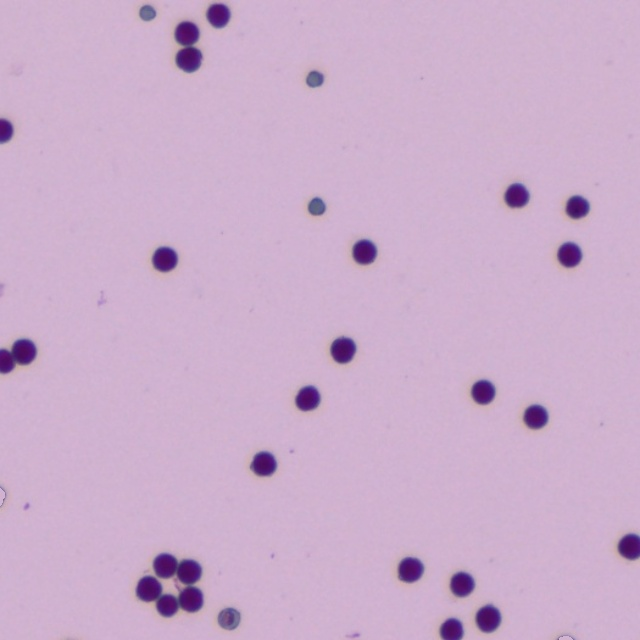non_viable: (217, 607, 239, 629), (307, 198, 324, 215), (306, 70, 323, 87), (139, 5, 155, 19)
viable: (475, 605, 500, 631), (330, 337, 355, 362), (152, 247, 177, 271), (398, 557, 422, 582), (251, 452, 276, 475), (450, 572, 473, 596), (523, 405, 547, 428), (557, 242, 580, 266), (352, 240, 376, 263), (295, 387, 320, 409), (505, 183, 528, 206), (206, 4, 229, 27), (618, 534, 640, 558), (472, 380, 494, 404), (177, 48, 200, 70), (440, 618, 462, 640), (566, 196, 588, 218), (13, 340, 34, 362), (138, 578, 160, 599), (155, 556, 177, 576), (177, 23, 196, 46), (179, 561, 199, 582), (180, 588, 200, 609), (158, 596, 178, 613), (0, 351, 14, 371), (0, 118, 12, 141)
